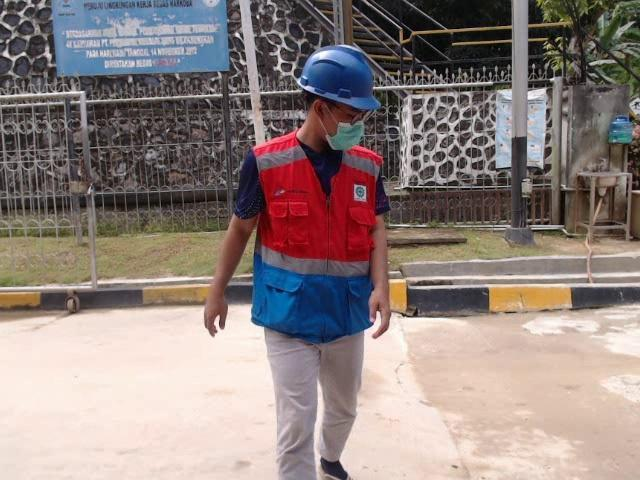helmet: (293, 42, 387, 115)
